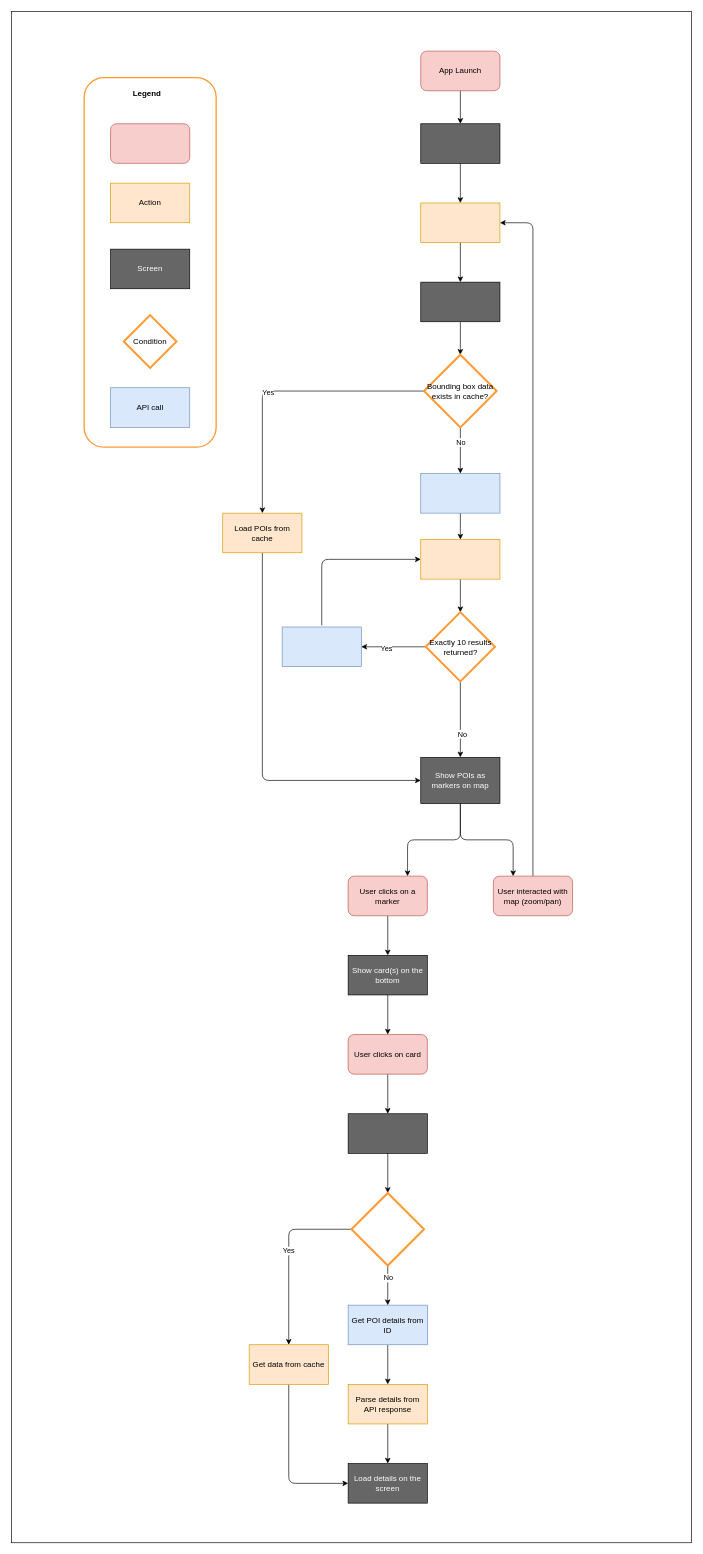
This 703x1554 diagram has some shape labels left out. The shapes that lost their labels are listed below. From the top down, each one's centre as x and y in pixels, then its label:
the point at 150,143: Event
the point at 460,143: Show map
the point at 460,222: Get visible bounding box from map
the point at 460,301: Show loading indicator
the point at 460,493: Fetch maximum of 10 POIs from visible bounding box
the point at 460,559: Parse POI list data from API response
the point at 321,646: Fetch the next 10 POIs from visible bounding box
the point at 387,1133: Open details sheet
the point at 387,1229: Detailed POI data exists in cache?
